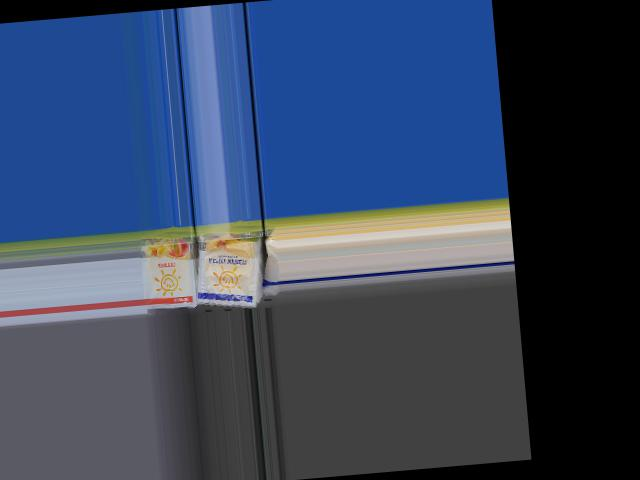cheese: (136, 225, 198, 315)
